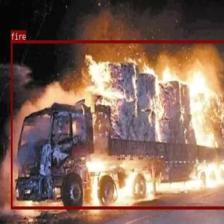fire: (10, 39, 224, 209)
